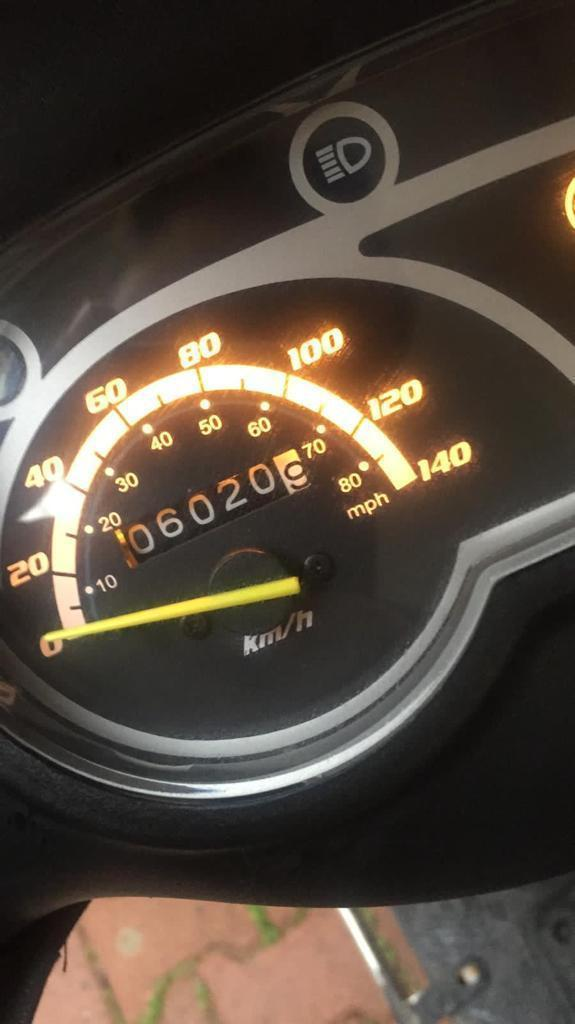0: (184, 493, 216, 527), (246, 462, 276, 497), (125, 524, 155, 555), (159, 430, 173, 447), (126, 471, 140, 488), (108, 509, 119, 525)
2: (212, 477, 248, 512)
3: (114, 477, 129, 493)
4: (147, 437, 162, 454)
6: (153, 508, 184, 539)
7: (301, 442, 313, 460)
9: (280, 460, 310, 494)
odometer: (112, 437, 314, 570)
